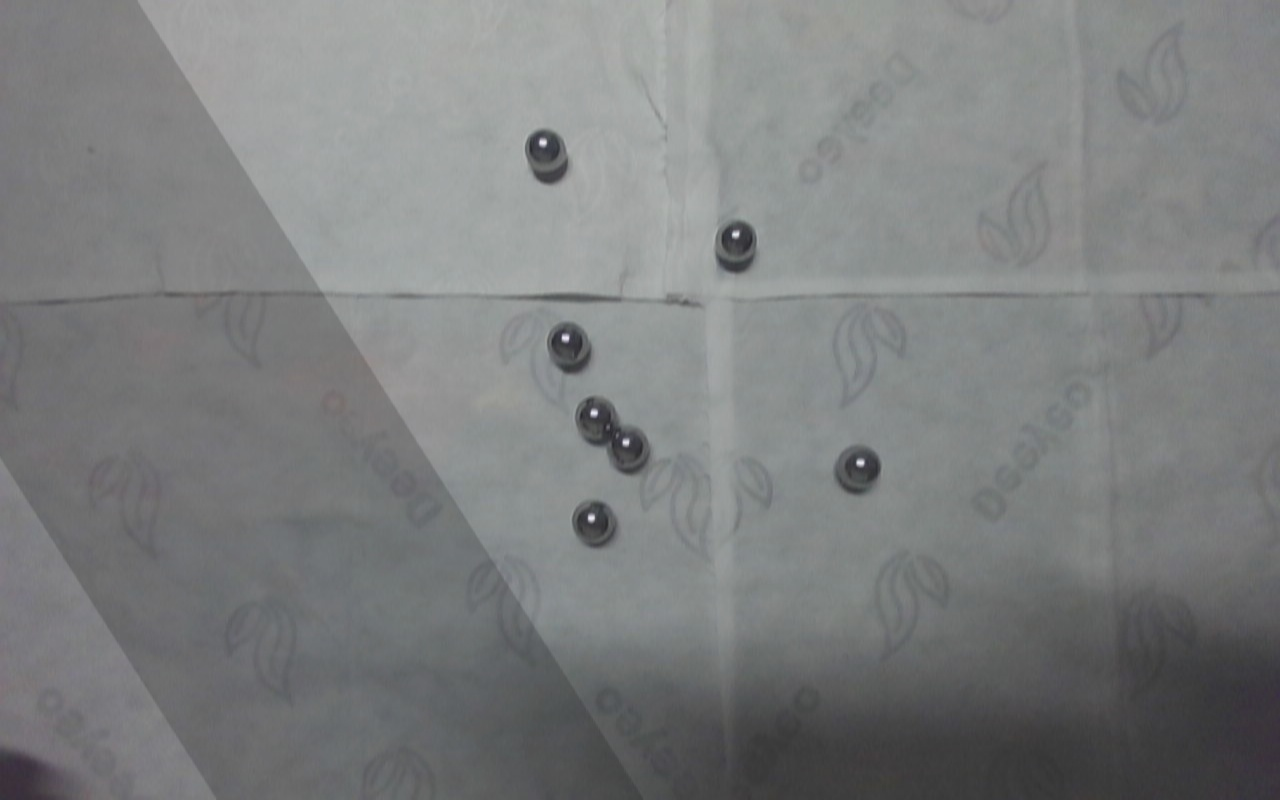ball: (711, 212, 762, 272), (834, 440, 884, 497), (570, 495, 620, 549), (524, 125, 569, 178), (608, 422, 653, 473), (575, 394, 621, 442), (547, 321, 593, 368)
